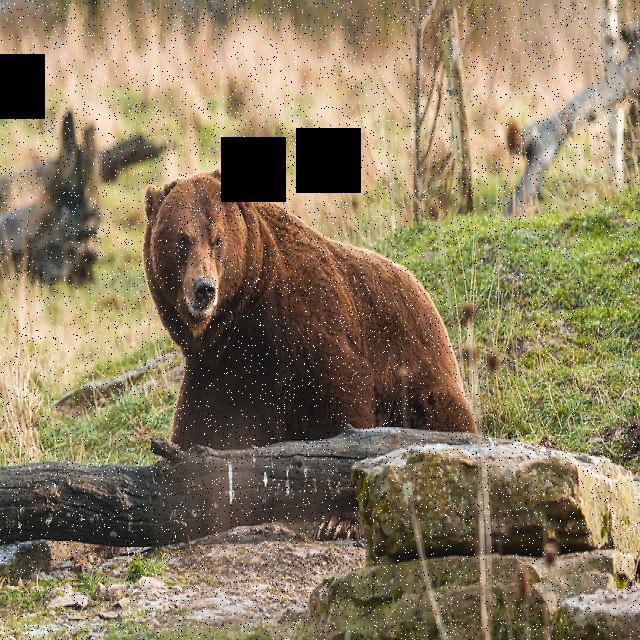Bear: (140, 156, 476, 438)
